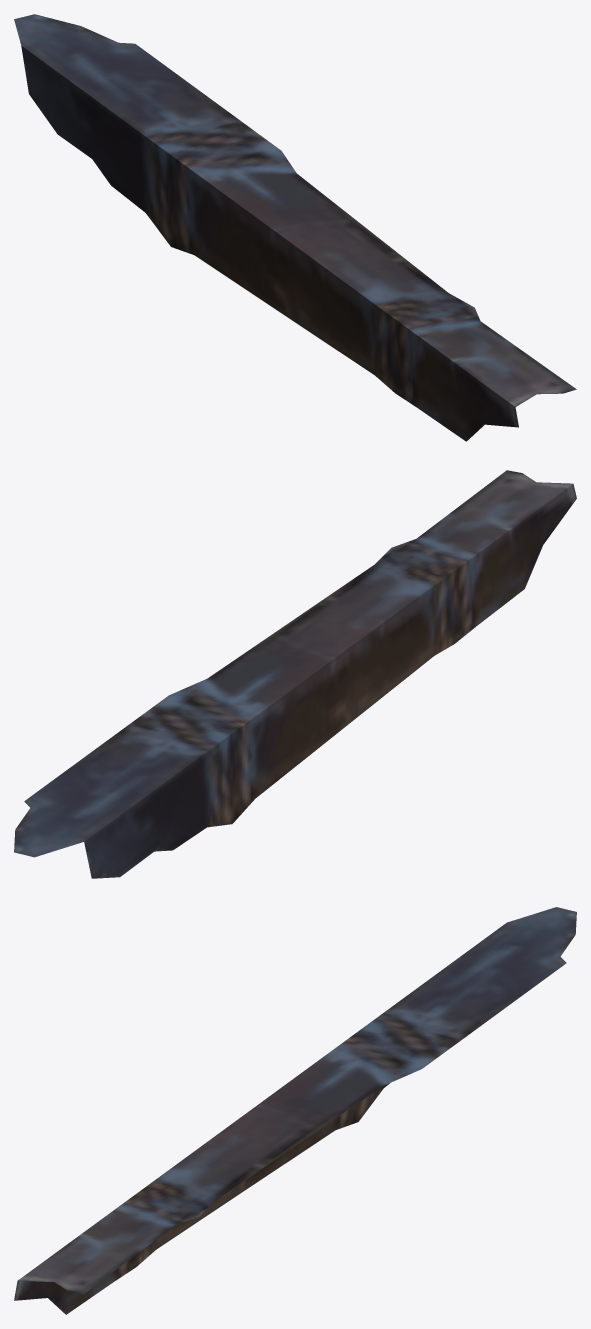
Rendered from yw_bingyuan_mutiao_001.FBX.
The picture shows the model from 3 angles, top to bottom: view 1: azimuth 30°, elevation 25°; view 2: azimuth 150°, elevation 25°; view 3: azimuth 330°, elevation 25°; orthographic projection.
Visible parts, largest first — view 1: yw_bingyuan_mutiao_001; view 2: yw_bingyuan_mutiao_001; view 3: yw_bingyuan_mutiao_001.
Boxes of the visible parts, x1,y1,x2,y2 form: yw_bingyuan_mutiao_001: (14, 14, 576, 441); yw_bingyuan_mutiao_001: (14, 470, 576, 878); yw_bingyuan_mutiao_001: (14, 907, 576, 1314).
Size of the model in its own units: 48.63 by 508 by 48.85.
